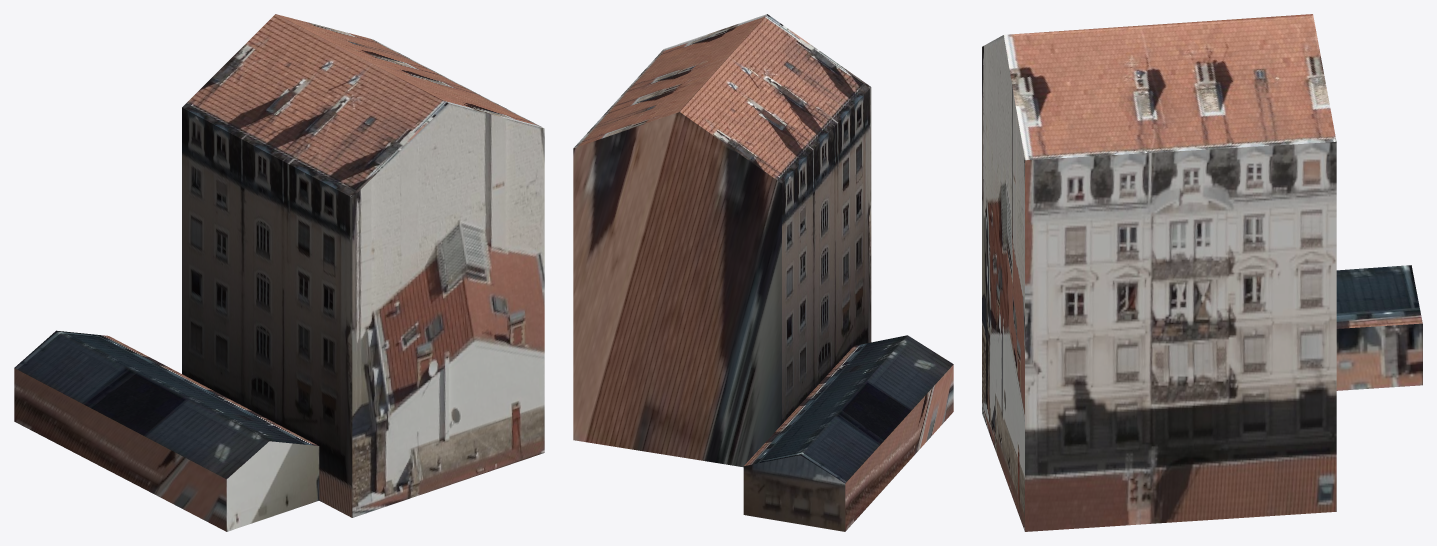
3 views of the same model, side by side, from view 1: azimuth 30°, elevation 25°; view 2: azimuth 150°, elevation 25°; view 3: azimuth 270°, elevation 25° (orthographic). The views are drawn at different scales.
Parts seen in each view (by area): view 1: Z_UP; view 2: Z_UP; view 3: Z_UP.
Part boxes in pixels (<box>): Z_UP: <box>14,14,544,531</box>; Z_UP: <box>573,14,953,531</box>; Z_UP: <box>982,14,1422,531</box>.
Bounding box in the file's own units: 27.43 × 27.38 × 24.96.
Materials: 2 (1 with a texture image).
